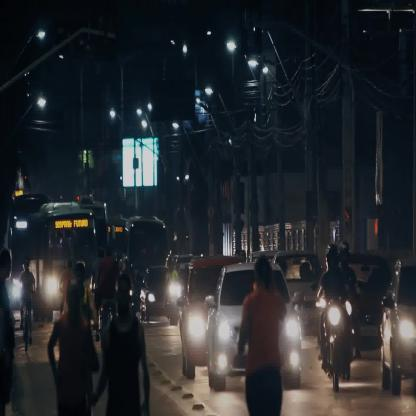bus: (40, 205, 95, 321)
car: (207, 263, 300, 392), (180, 255, 245, 380), (140, 266, 176, 324)
motorcycle: (319, 245, 349, 392), (19, 260, 35, 351)
